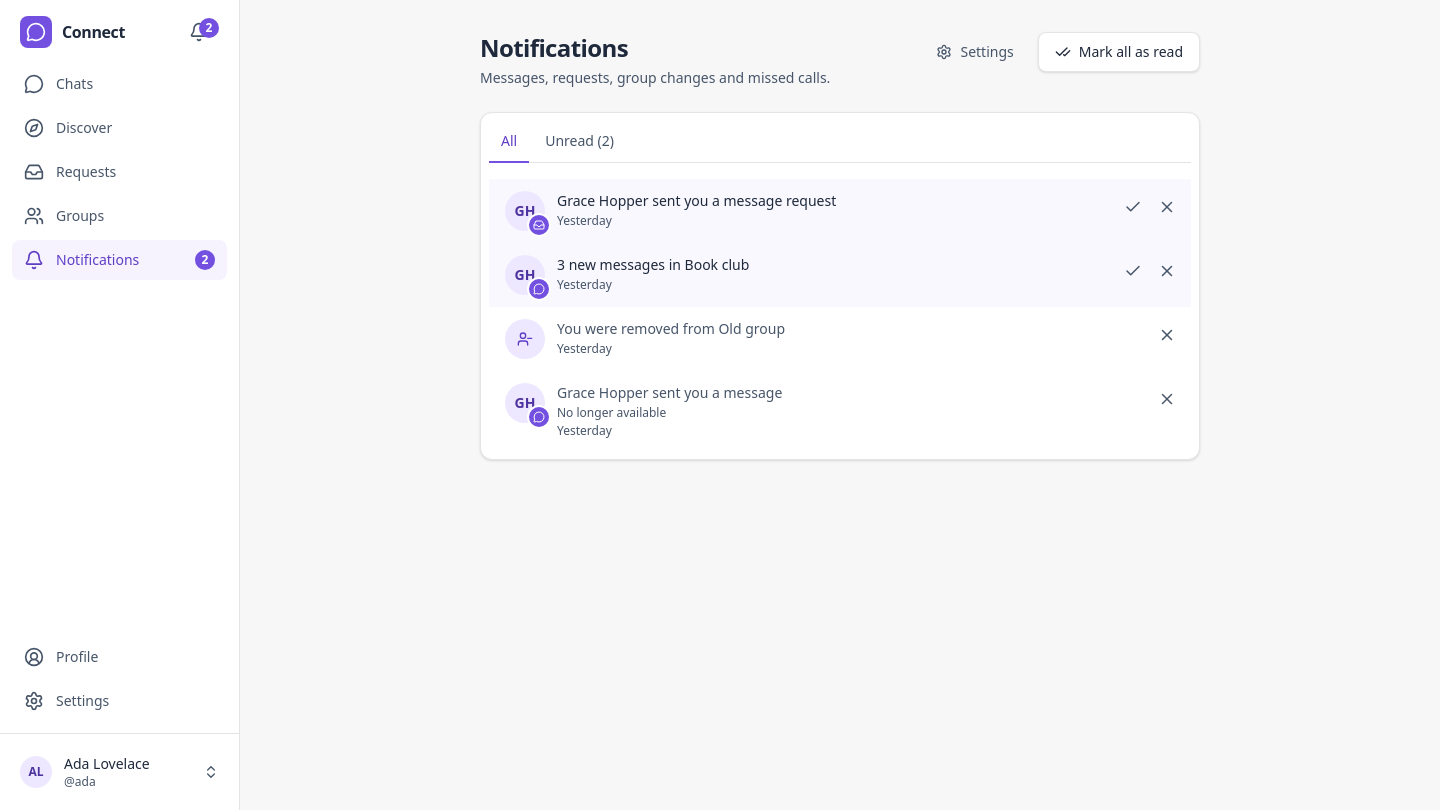
Scenario: NotificationsPage › lists notifications, links to what they are about and marks them read
Expected: the text "Grace Hopper sent you a message request" is shown, [556,190,836,210]
Expected: the text "You were removed from Old group" is shown, [557,319,785,338]
Step 1. Click the button named "Mark as read" in the row of "Grace Hopper sent you a message request" → (1133, 207), box [1117,191,1149,223]
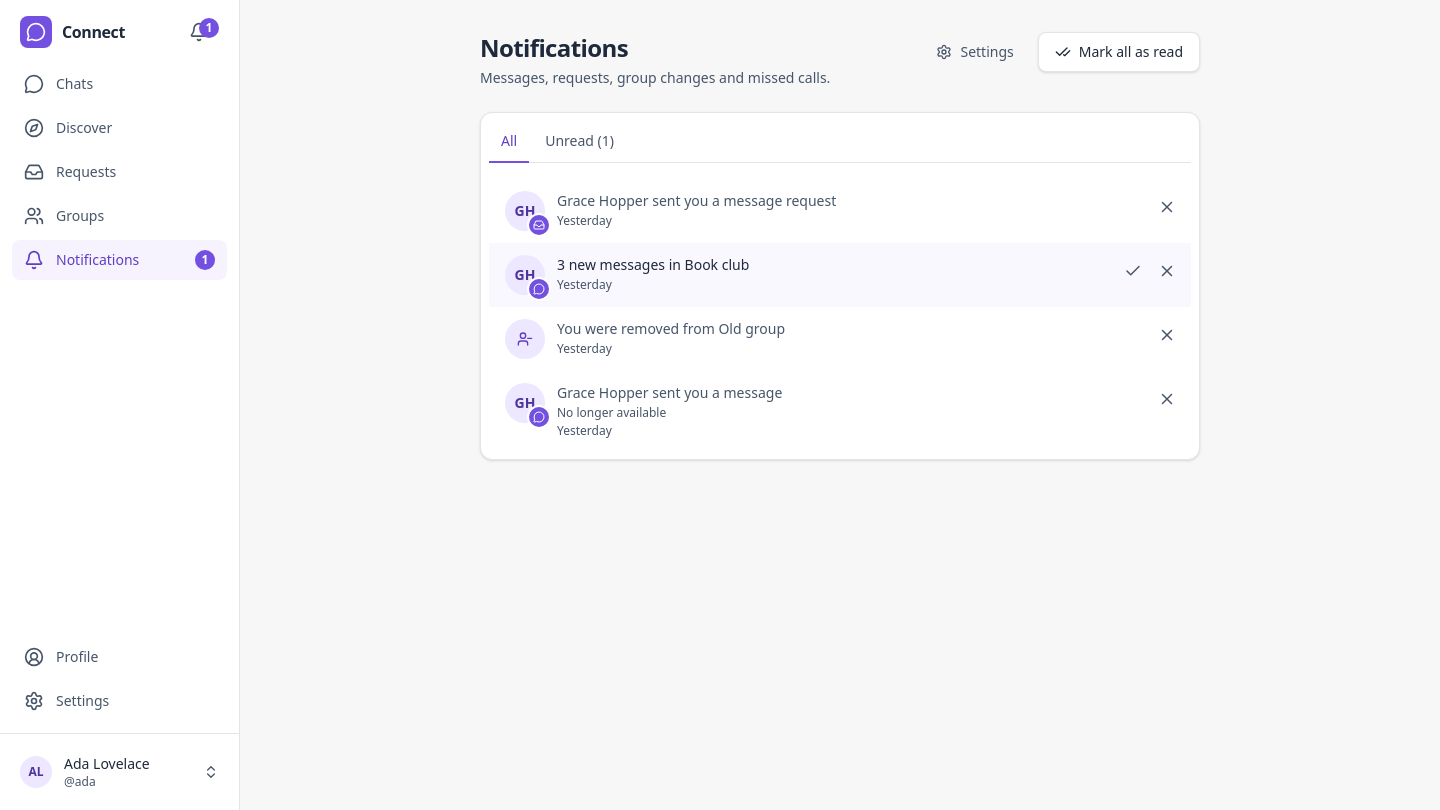
Expected: the tab "Unread (1)" is shown, [533,121,626,163]
Step 2. Click the button "Mark all as read" → (1119, 52), box [1038,32,1200,72]
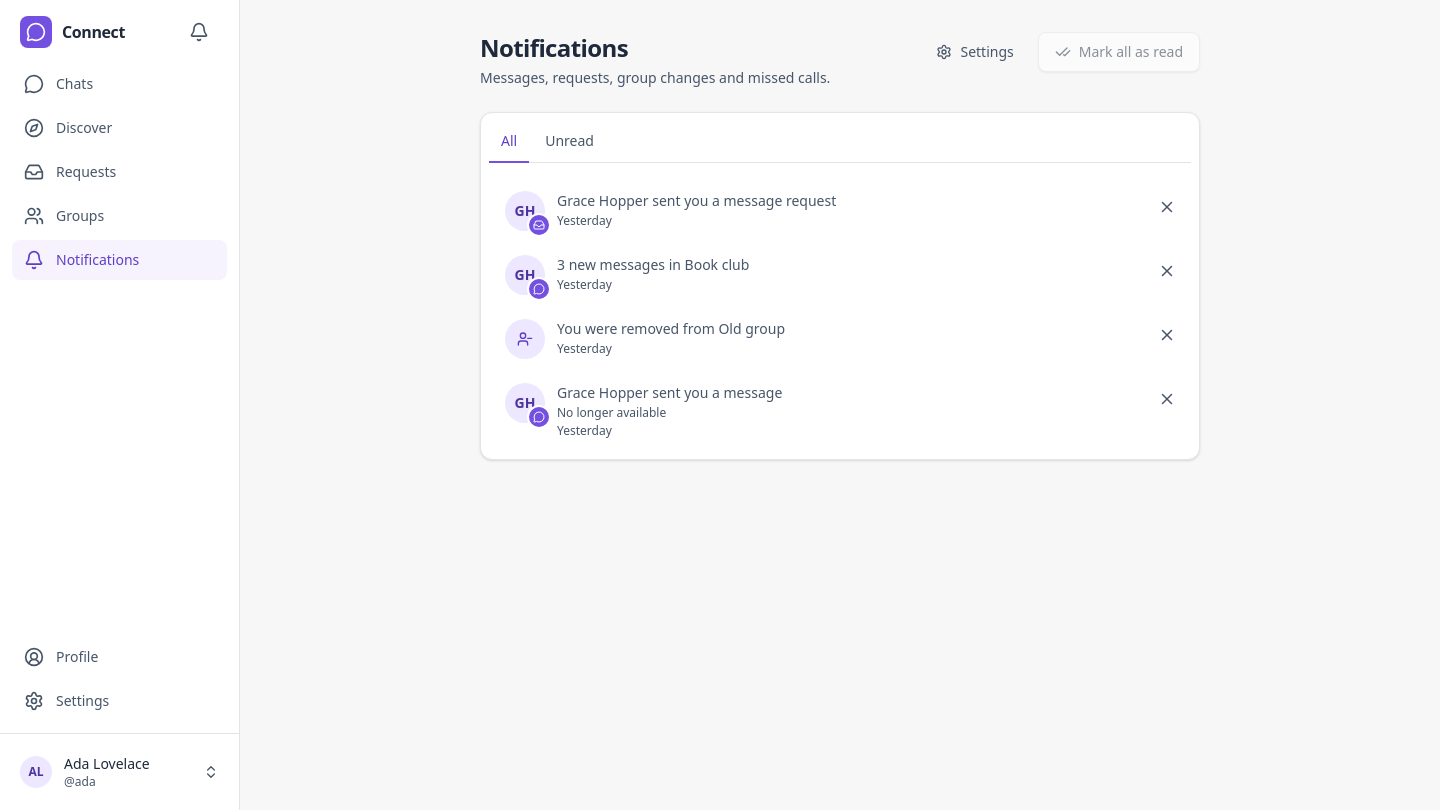
Expected: the button "Mark all as read" is disabled, [1038,32,1200,72]
